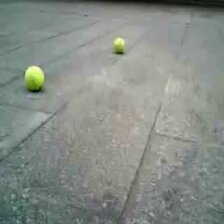tennis: (24, 66, 43, 87), (112, 37, 126, 52)
